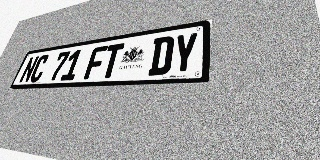1: (60, 49, 84, 81)
7: (48, 51, 71, 81)
C: (28, 54, 50, 83)
D: (148, 35, 175, 76)
F: (83, 45, 108, 79)
N: (18, 56, 40, 83)
T: (99, 43, 125, 79)
Y: (170, 32, 199, 74)
